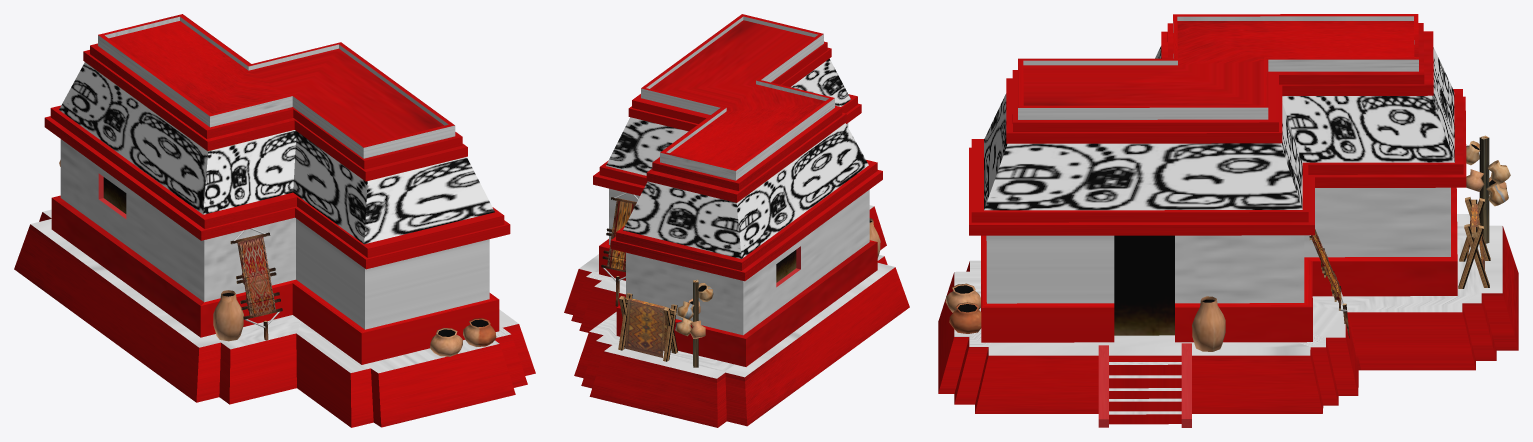
The model's file is house_nobre_2.dae.
3 views of the same model, side by side, from view 1: azimuth 30°, elevation 25°; view 2: azimuth 150°, elevation 25°; view 3: azimuth 270°, elevation 25° (orthographic). The views are drawn at different scales.
Visible parts, largest first — view 1: house_nobre_2; view 2: house_nobre_2; view 3: house_nobre_2.
Boxes of the visible parts, x1,y1,x2,y2 form: house_nobre_2: (14, 14, 535, 427); house_nobre_2: (564, 14, 909, 427); house_nobre_2: (938, 14, 1518, 427).
Size of the model in its own units: 9.82 by 14.45 by 7.51.
